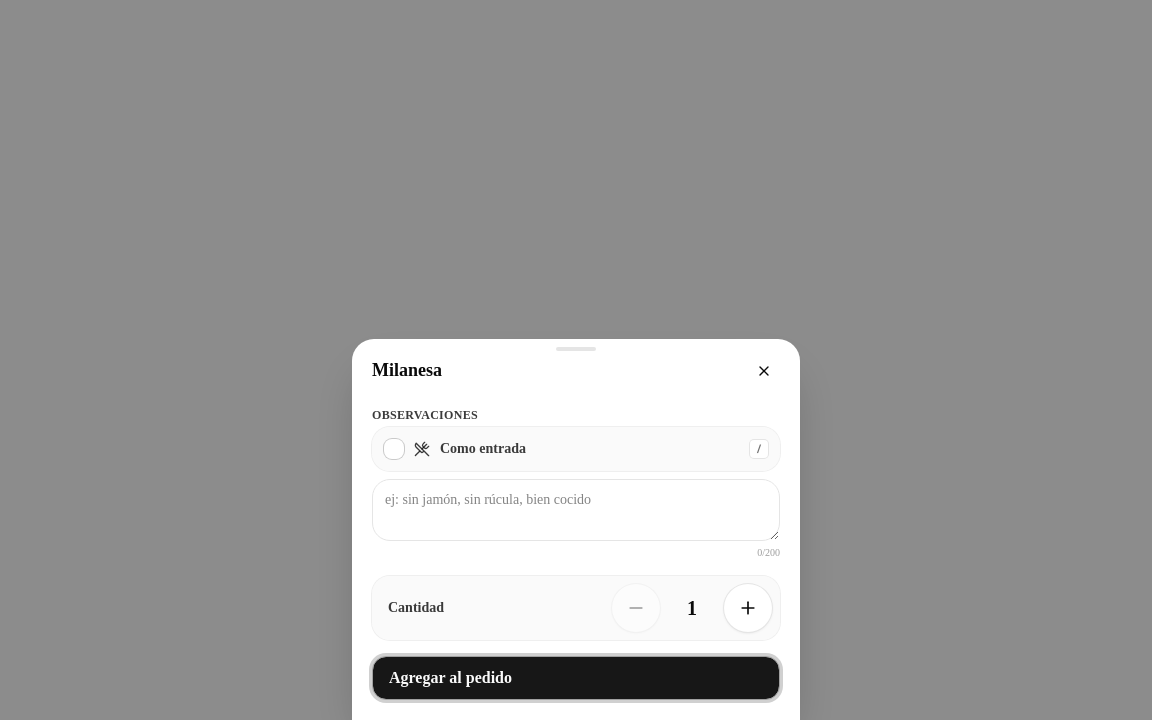
Test: <ProductModal /> — atajos de teclado › escribiendo en Observaciones, `/` es una barra
Click the text box with placeholder "ej: sin jamón, sin rúcula, bien cocido".
click(576, 510)  # box 372,479 -> 780,541
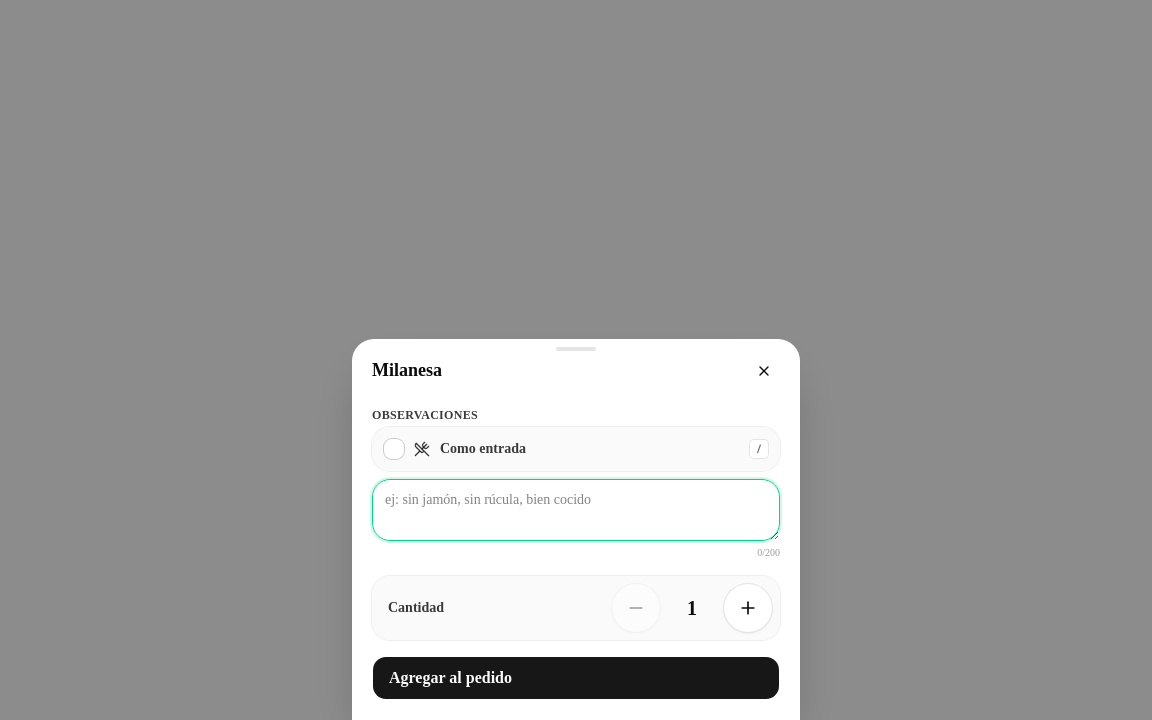
Type keys "1/2"
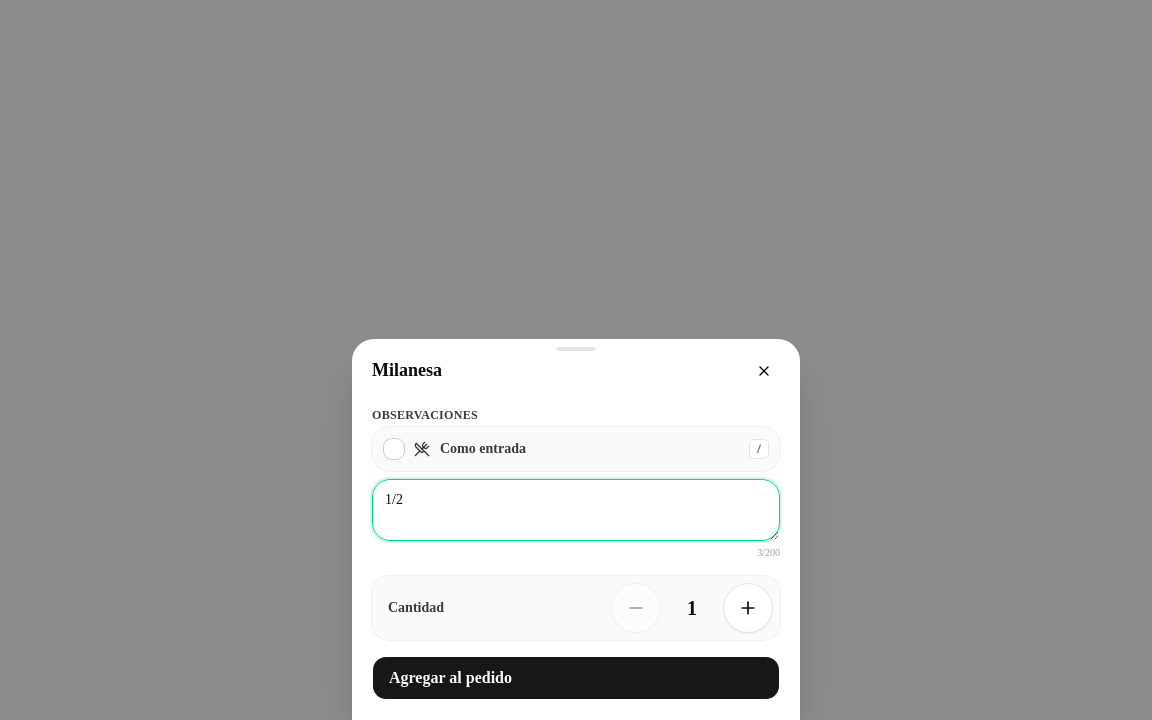
expect the text box with placeholder "ej: sin jamón, sin rúcula, bien cocido" holds "1/2": met, box 372,479 -> 780,541
